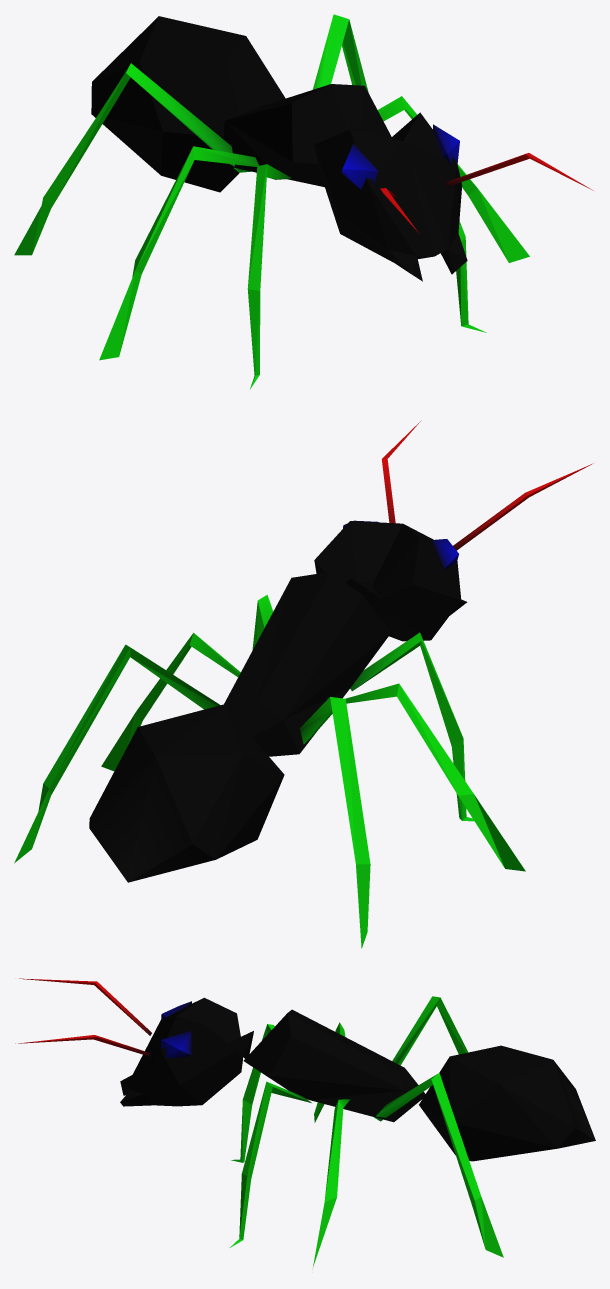
The model's file is Ant_red_model_4.fbx.
3 views of the same model, one above another, from view 1: azimuth 30°, elevation 25°; view 2: azimuth 150°, elevation 25°; view 3: azimuth 270°, elevation 25° (orthographic). The views are drawn at different scales.
Visible parts, largest first — view 1: ant; view 2: ant; view 3: ant.
Part boxes in pixels (bbox=[...]): ant: bbox=[14, 14, 593, 389]; ant: bbox=[14, 420, 592, 948]; ant: bbox=[15, 978, 595, 1268].
Bounding box in the file's own units: 3.16 × 4.85 × 1.79.
